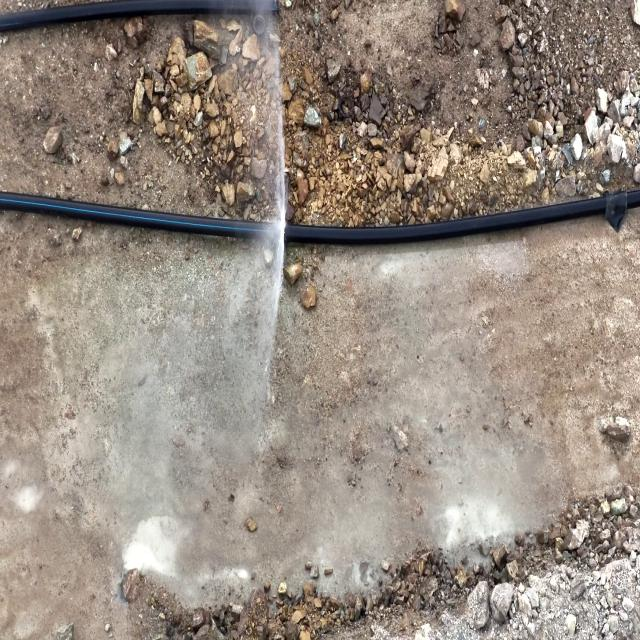leak: (264, 0, 290, 408)
